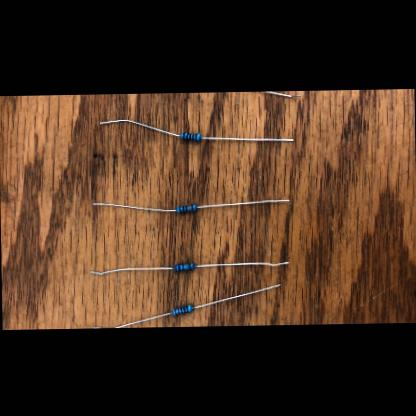resistor: (173, 262, 195, 272), (176, 202, 197, 212), (180, 130, 201, 140), (172, 303, 191, 314)
wire: (193, 282, 280, 307), (100, 118, 180, 136), (92, 310, 172, 326), (197, 198, 289, 208), (92, 202, 176, 212), (202, 134, 294, 141), (90, 266, 172, 273), (195, 261, 289, 266), (262, 90, 300, 96)
